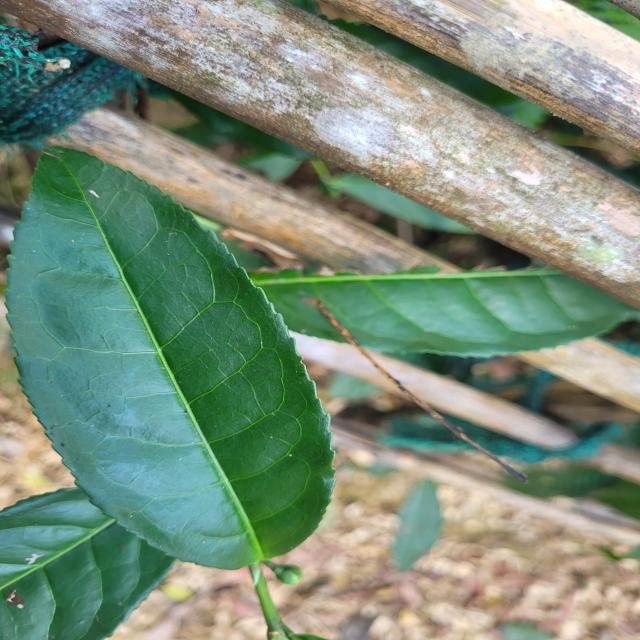Category D(7+ days, Not for Tea): (2, 146, 336, 568)
